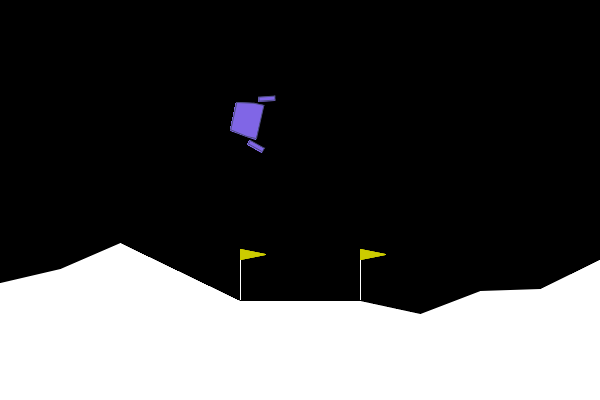lander: (225, 87, 277, 154)
